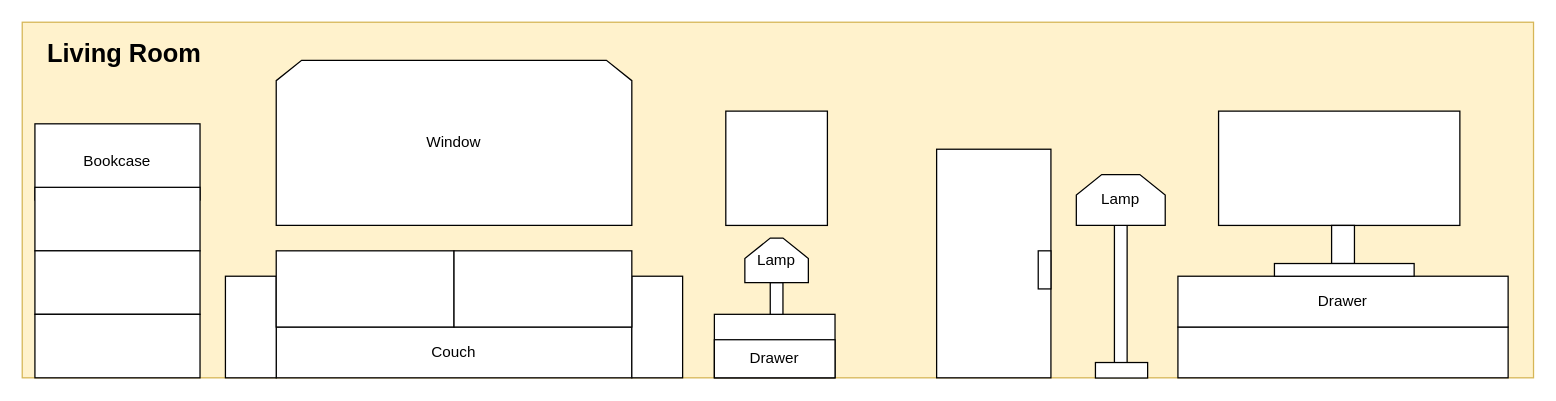
The diagram is 1556 pixels wide and 401 high, and some of its shapes have lost their labels. Here are the shapes that lost their labels. From the top down, the centre of each, then its label:
the point at 776,167: Poster
the point at 1338,167: Tv
the point at 993,263: Door
